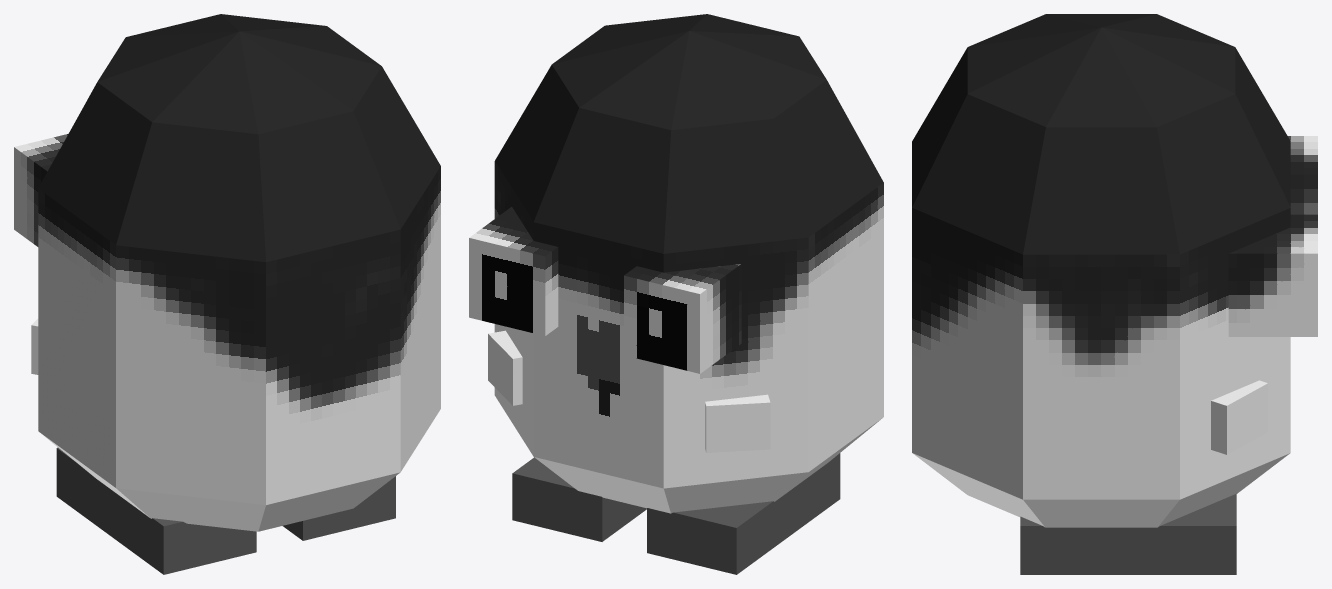
Rendered from inkmole.gltf.
3 renders of one model, left to right at view 1: azimuth 30°, elevation 25°; view 2: azimuth 150°, elevation 25°; view 3: azimuth 270°, elevation 25°, orthographic. The views are drawn at different scales.
Parts seen in each view (by area): view 1: cylinder, sphere (×2), mesh (×3); view 2: sphere (×2), cylinder, mesh (×6); view 3: cylinder, sphere (×2), mesh (×4).
Boxes of the visible parts, x1=… form: cylinder: x1=38, y1=166, x2=440, y2=504; sphere (×2): x1=38, y1=14, x2=440, y2=531; mesh (×3): x1=14, y1=134, x2=395, y2=574; sphere (×2): x1=495, y1=14, x2=883, y2=513; cylinder: x1=494, y1=161, x2=883, y2=488; mesh (×6): x1=469, y1=207, x2=840, y2=574; cylinder: x1=912, y1=208, x2=1290, y2=499; sphere (×2): x1=912, y1=14, x2=1290, y2=527; mesh (×4): x1=1020, y1=136, x2=1317, y2=574.
Bounding box in the file's own units: 0.4375 × 0.625 × 0.4688.
Materials: 9 (9 with a texture image).
